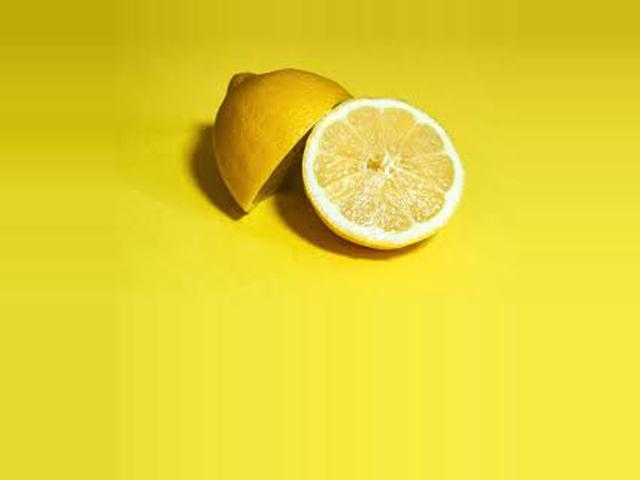lemon: (203, 65, 355, 232)
